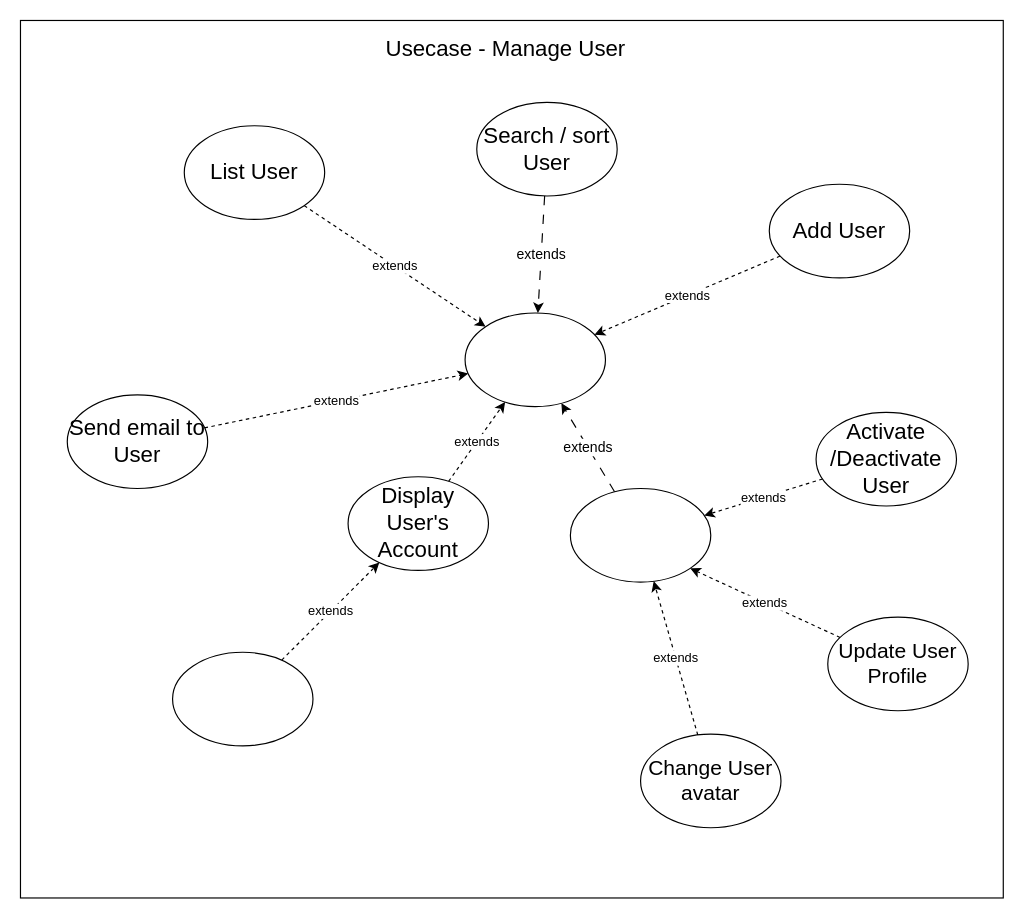
Image size: 1024x918. Some labels were removed from this diagram. Here are the shapes that lost their labels. From the top down, the centre of each, then its label:
point (534, 359): Manage User
point (640, 534): Display User detail infomation
point (242, 698): Remove User from Account
